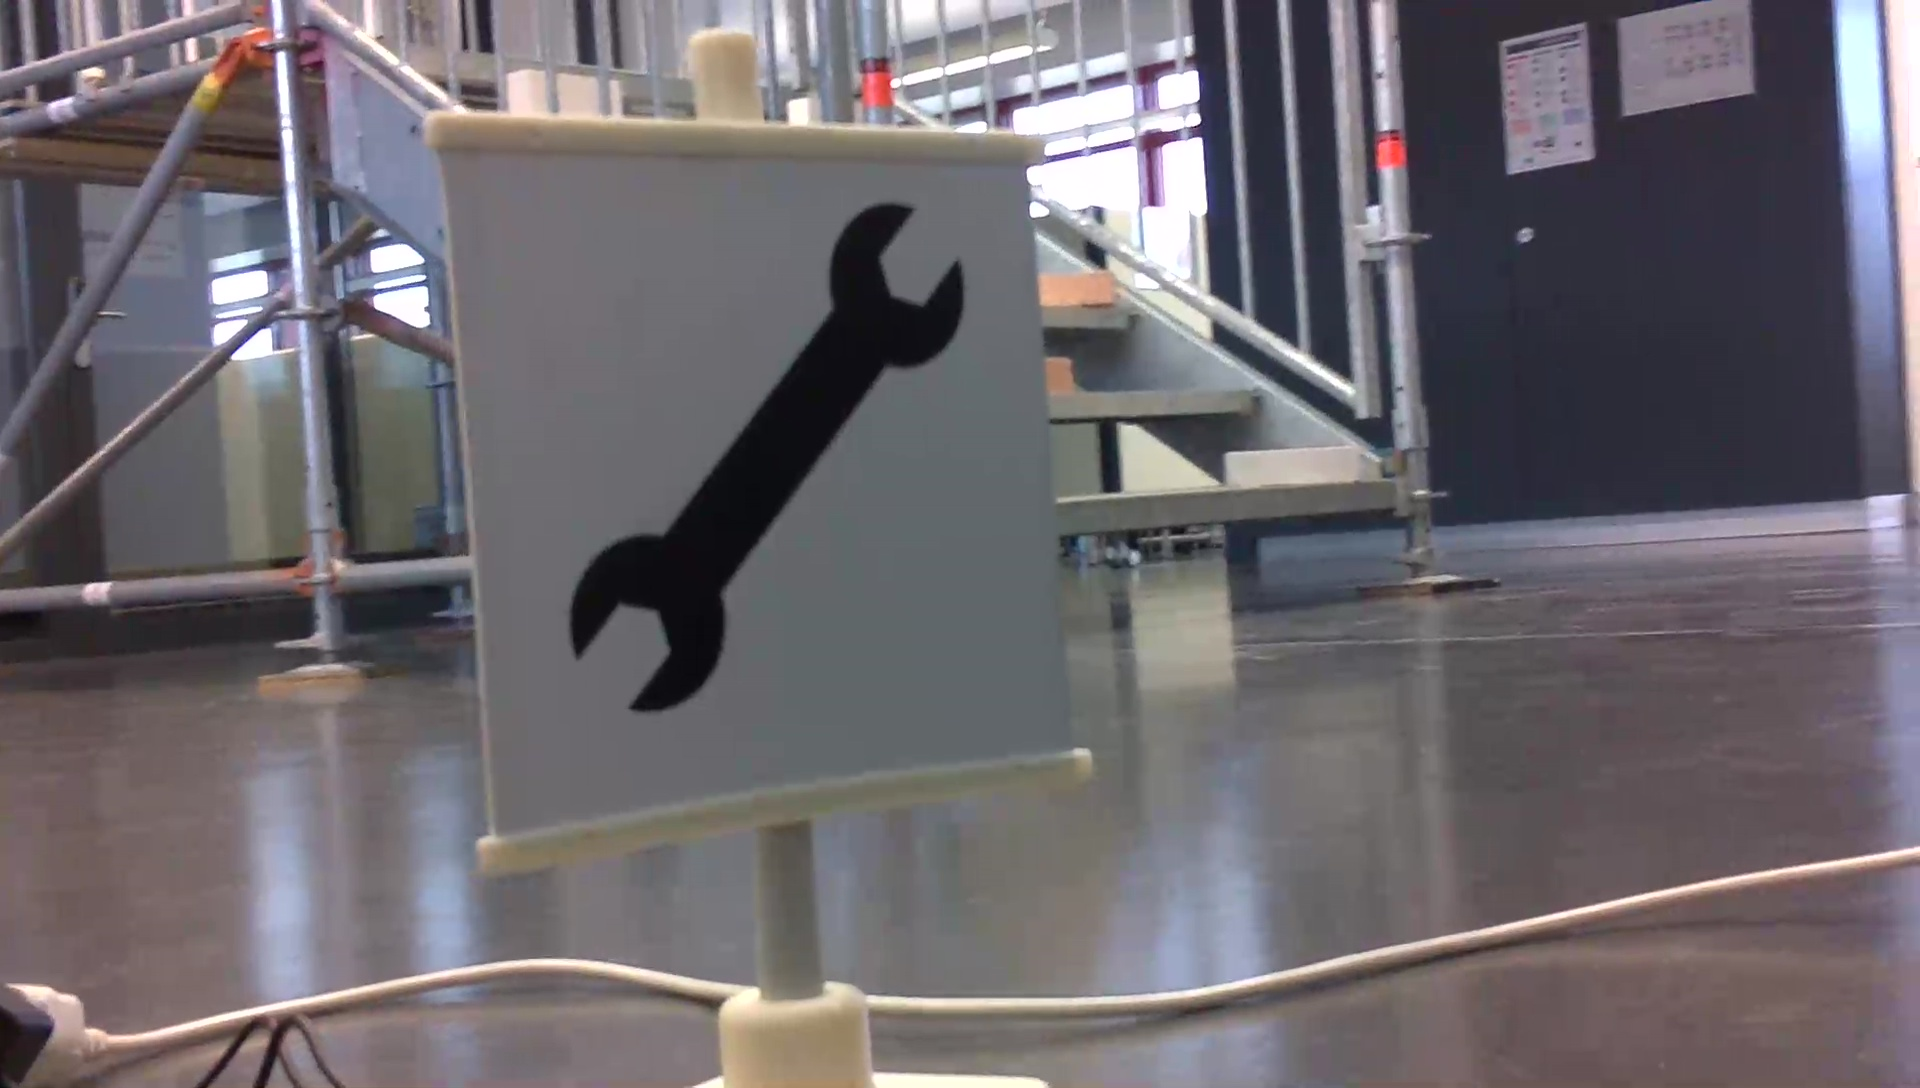brick: (1228, 447, 1360, 481), (1036, 270, 1113, 306), (1046, 359, 1071, 390)
edge: (1055, 481, 1398, 531), (1048, 388, 1258, 415), (1039, 301, 1141, 328)
wrench: (556, 193, 978, 729)
